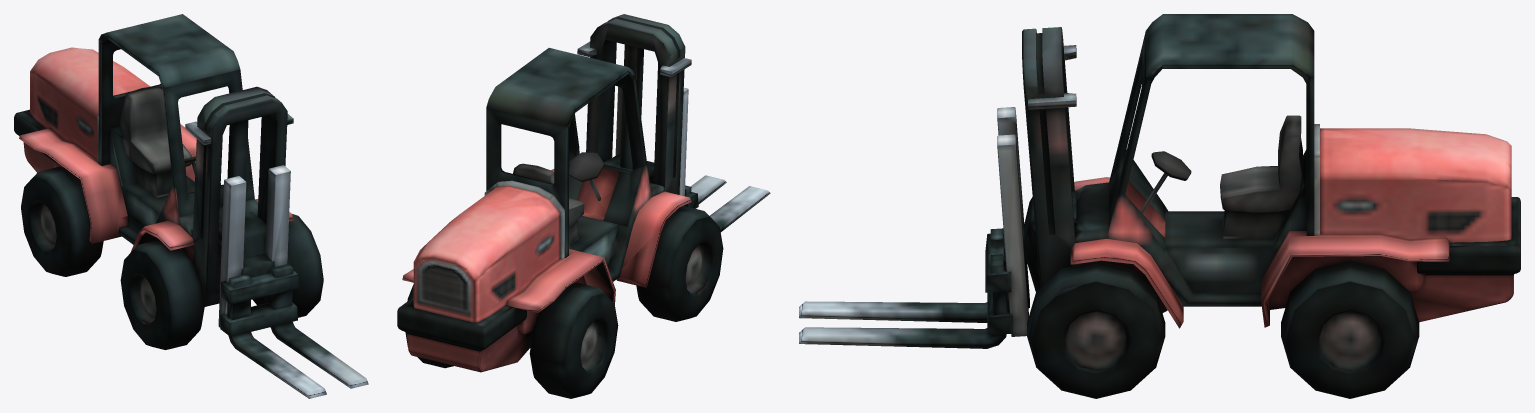
Rendered from fork.FBX.
3 views of the same model, side by side, from view 1: azimuth 30°, elevation 25°; view 2: azimuth 150°, elevation 25°; view 3: azimuth 270°, elevation 25° (orthographic). The views are drawn at different scales.
Parts seen in each view (by area): view 1: Mesh; view 2: Mesh; view 3: Mesh.
Part boxes in pixels (x1,y1,x2,y2): Mesh: [14, 14, 368, 398]; Mesh: [397, 14, 770, 398]; Mesh: [799, 14, 1520, 398].
Bounding box in the file's own units: 72.6 × 109 × 224.
